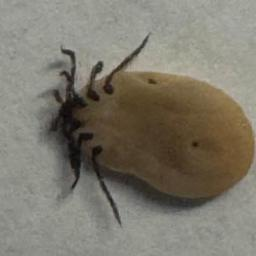Ixodes scapularis: (51, 33, 255, 223)
